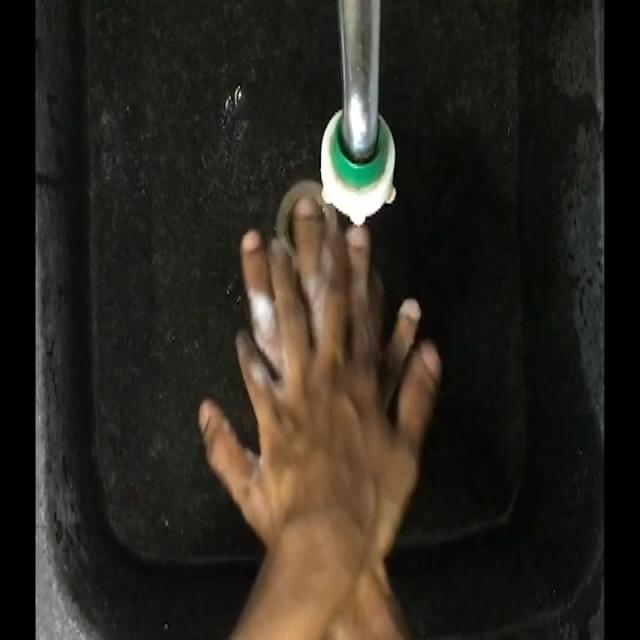step_2: (190, 192, 446, 583)
